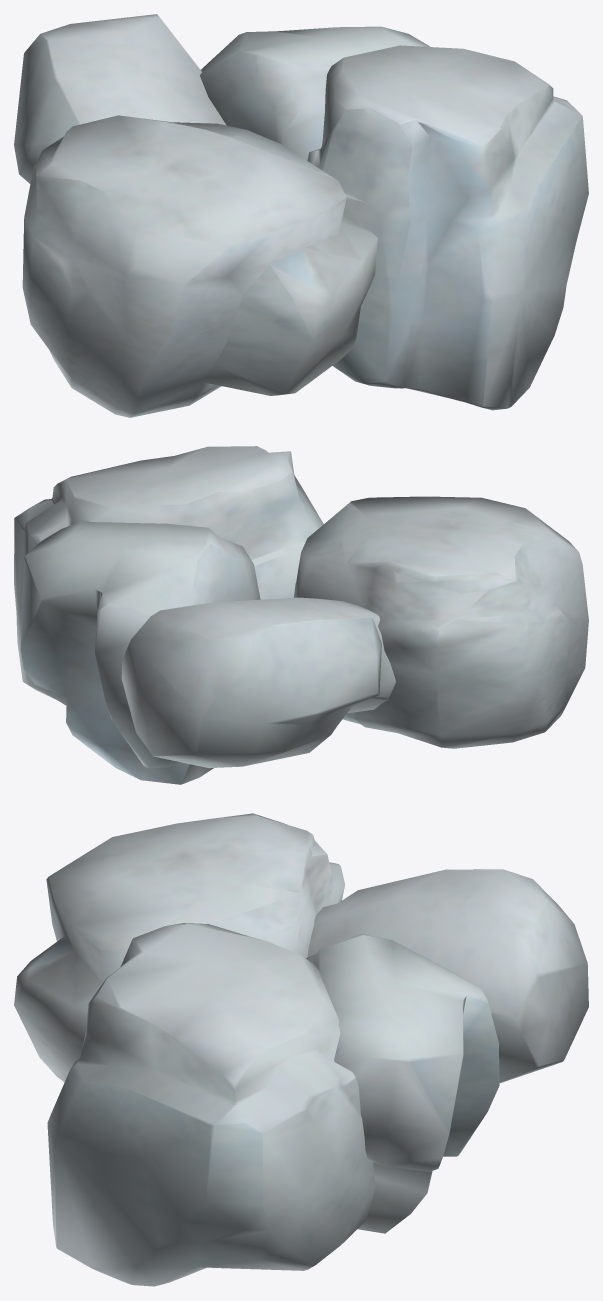
File: P_RockSpire_RockClump05.obj
3 views of the same model, one above another, from view 1: azimuth 30°, elevation 25°; view 2: azimuth 150°, elevation 25°; view 3: azimuth 270°, elevation 25° (orthographic). The views are drawn at different scales.
Bounding box in the file's own units: 14.04 × 6.99 × 12.63.
